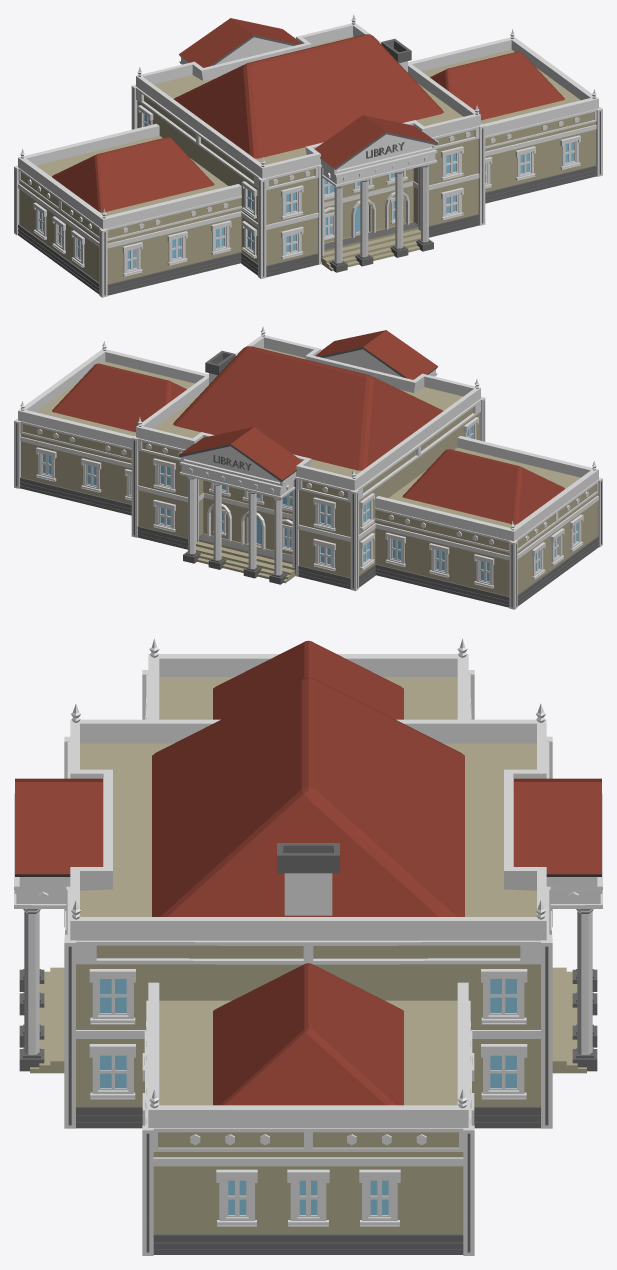
File: Library_Large_003.obj
3 views of the same model, one above another, from view 1: azimuth 30°, elevation 25°; view 2: azimuth 150°, elevation 25°; view 3: azimuth 270°, elevation 25° (orthographic). The views are drawn at different scales.
Visible parts, largest first — view 1: Library_Large_003_Cube; view 2: Library_Large_003_Cube; view 3: Library_Large_003_Cube.
Boxes of the visible parts, bbox=[...] form: Library_Large_003_Cube: bbox=[14, 14, 602, 297]; Library_Large_003_Cube: bbox=[14, 326, 602, 609]; Library_Large_003_Cube: bbox=[14, 638, 602, 1255].
Size of the model in its own units: 31.77 by 9.44 by 17.16.
Materials: 1 (1 with a texture image).
